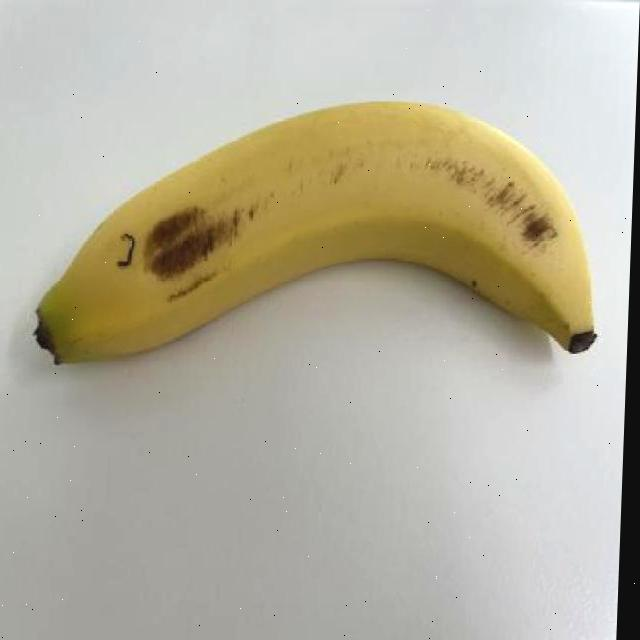banana: (25, 95, 609, 372)
